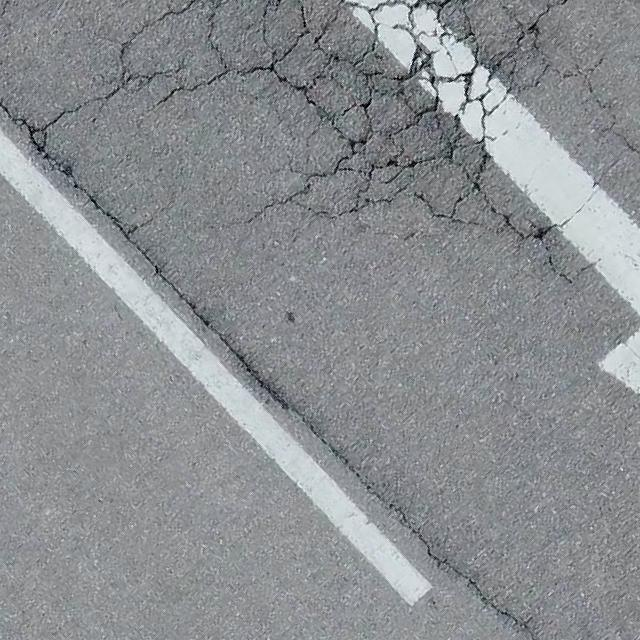GRIETA: (0, 101, 425, 548), (428, 550, 538, 639), (38, 87, 120, 131)
PIEL DE COCODRILO: (108, 0, 639, 252)
